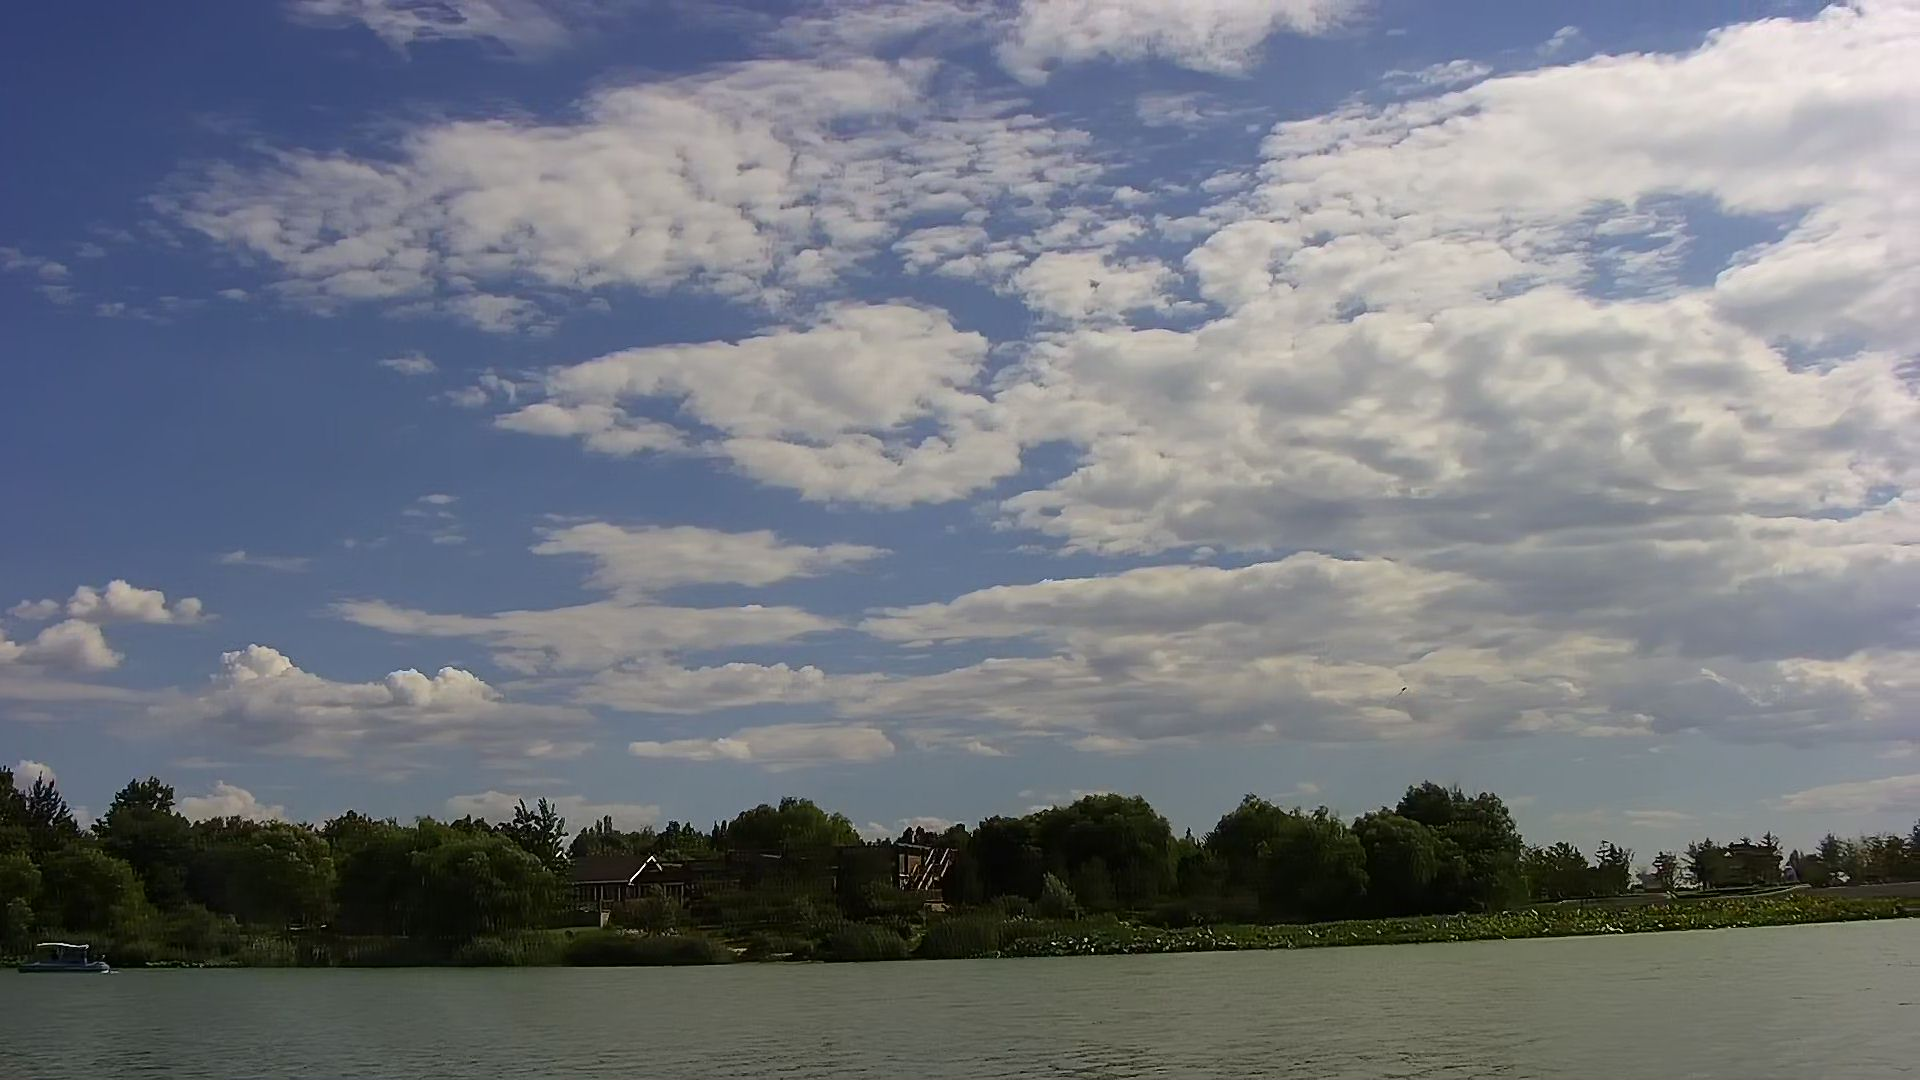boat: (18, 938, 116, 978)
